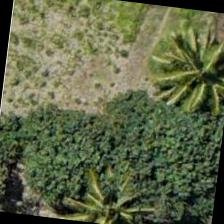Kelapa_Sawit: (152, 12, 223, 111), (60, 170, 156, 223)
